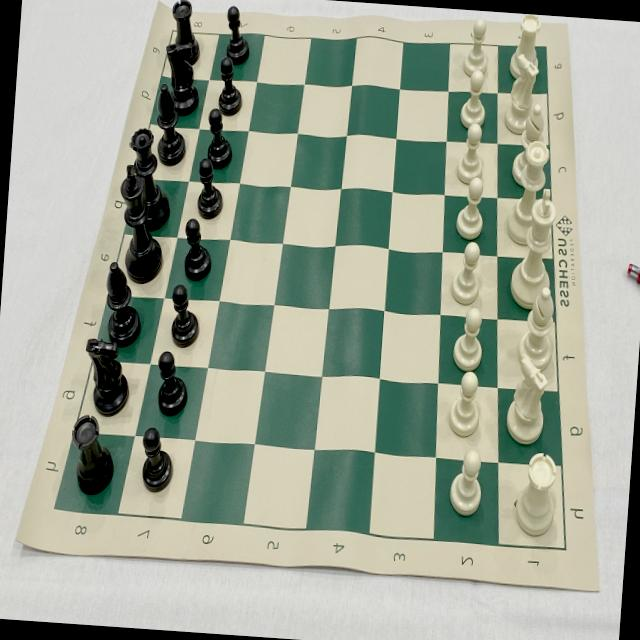black-bishop: (102, 259, 144, 345), (153, 84, 189, 165)
black-king: (116, 162, 170, 284)
black-knight: (81, 337, 132, 417), (160, 41, 202, 114)
black-pawn: (138, 426, 176, 494), (153, 350, 190, 417), (181, 219, 214, 283), (170, 284, 202, 348), (194, 158, 226, 220), (205, 106, 235, 169), (222, 4, 252, 65), (215, 58, 245, 116)
black-queen: (124, 125, 174, 228)
black-rook: (68, 413, 118, 496), (168, 0, 202, 65)
white-bishop: (516, 284, 557, 370), (510, 102, 547, 188)
white-king: (508, 184, 558, 310)
white-knight: (504, 354, 552, 446), (502, 52, 540, 136)
white-pawn: (450, 306, 490, 374), (447, 450, 487, 518), (446, 370, 484, 440), (453, 174, 488, 240), (448, 240, 483, 304), (456, 122, 486, 186), (461, 14, 490, 78), (458, 69, 489, 127)
white-queen: (504, 138, 550, 246)
white-rook: (514, 449, 560, 537), (508, 13, 542, 80)
